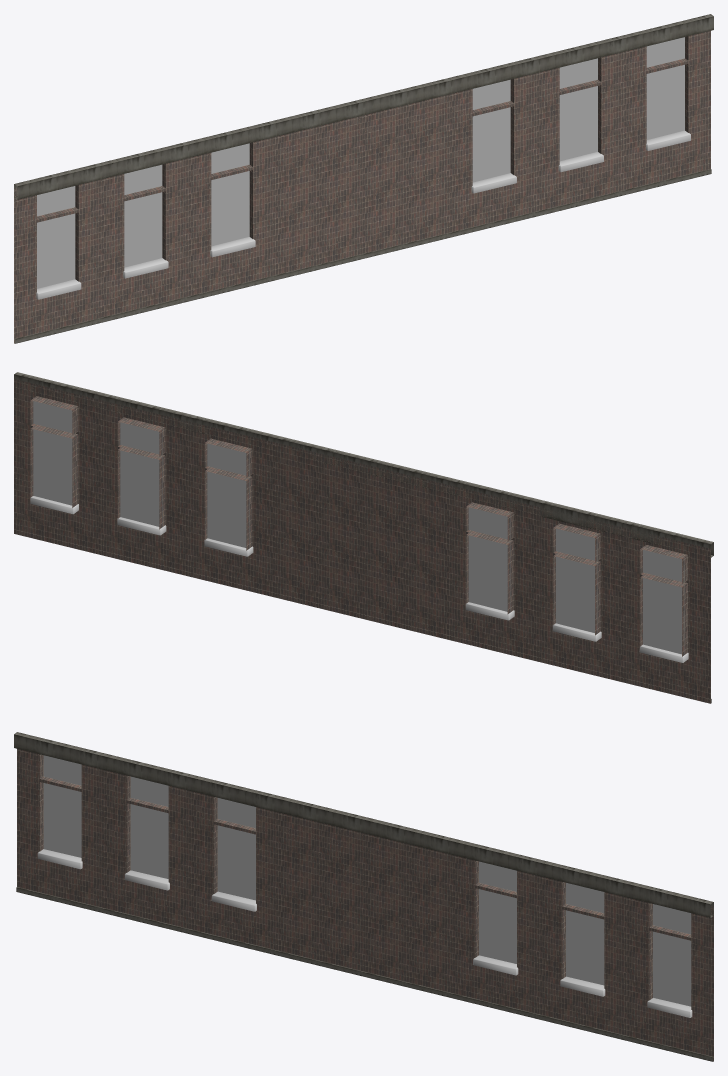
Rendered from W_Windows_E_16x.FBX.
3 views of the same model, one above another, from view 1: azimuth 30°, elevation 25°; view 2: azimuth 150°, elevation 25°; view 3: azimuth 330°, elevation 25° (orthographic).
Parts seen in each view (by area): view 1: W_Windows_E_16x; view 2: W_Windows_E_16x; view 3: W_Windows_E_16x.
Boxes of the visible parts, <box> form: W_Windows_E_16x: <box>14,14,713,343</box>; W_Windows_E_16x: <box>14,372,713,703</box>; W_Windows_E_16x: <box>14,732,713,1061</box>.
Bounding box in the file's own units: 1600 × 350 × 35.99.
